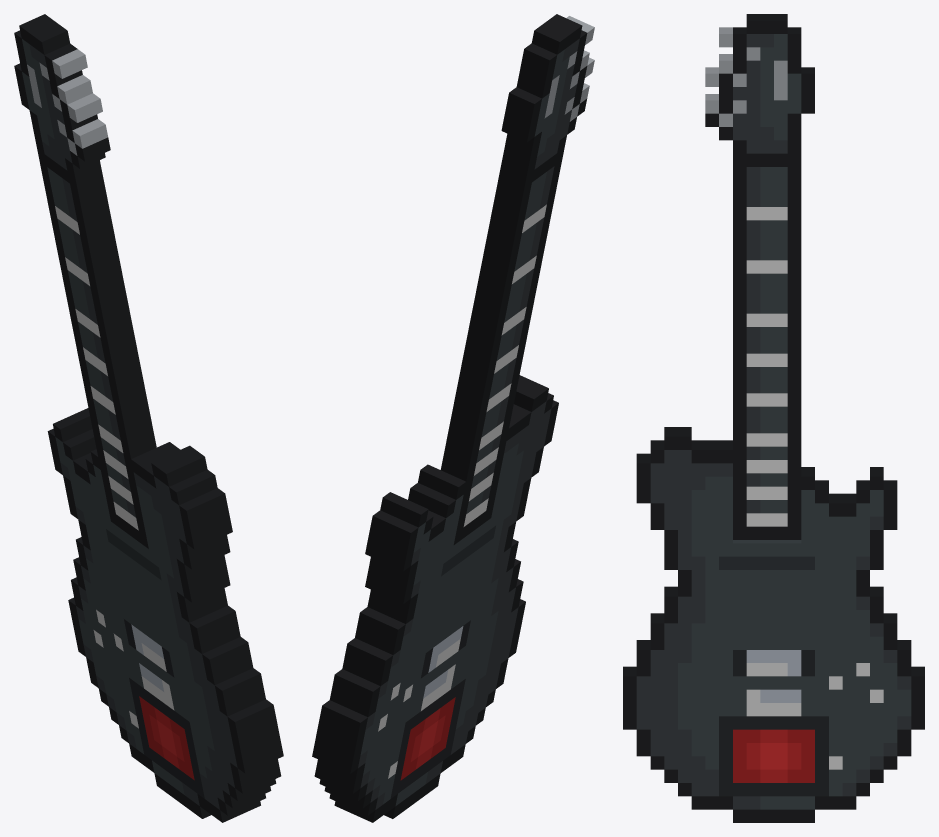
The model's file is guitar2.001_0_lev1_lev3.glb.
3 renders of one model, left to right at view 1: azimuth 30°, elevation 25°; view 2: azimuth 150°, elevation 25°; view 3: azimuth 270°, elevation 25°, orthographic. The views are drawn at different scales.
Visible parts, largest first — view 1: guitar2.001_0_lev1_lev3; view 2: guitar2.001_0_lev1_lev3; view 3: guitar2.001_0_lev1_lev3.
Part boxes in pixels (x1,y1,x2,y2): guitar2.001_0_lev1_lev3: (14, 14, 283, 822); guitar2.001_0_lev1_lev3: (312, 14, 594, 822); guitar2.001_0_lev1_lev3: (623, 14, 924, 822).
Bounding box in the file's own units: 0.7262 × 2.95 × 1.1.
1 material, 1 textured.
